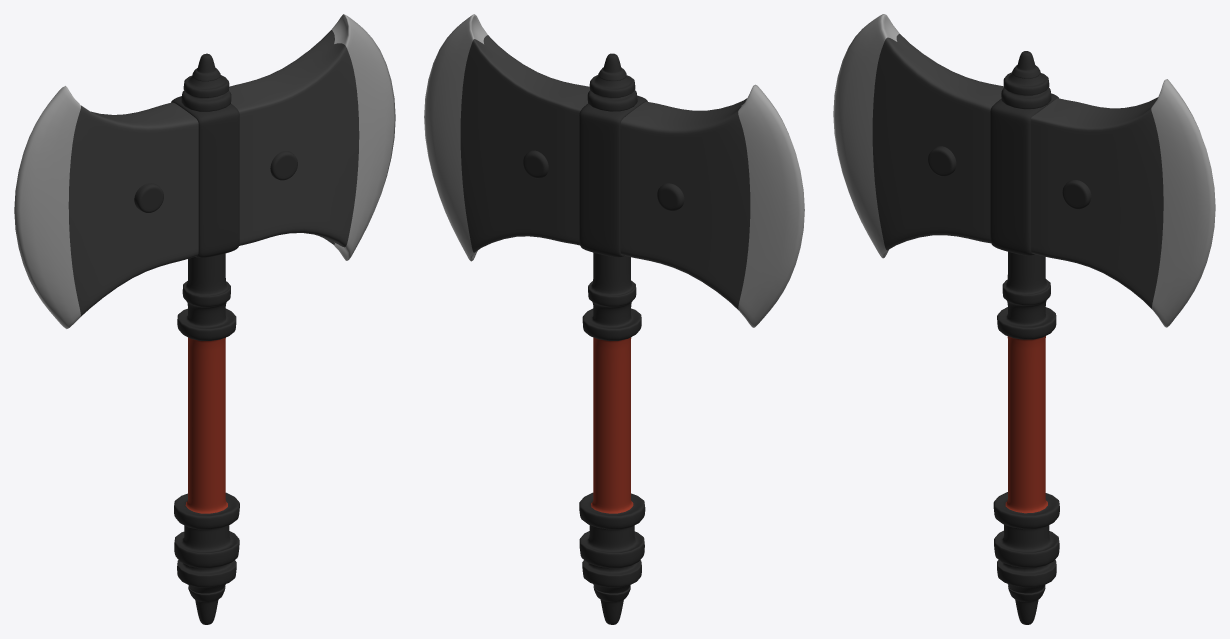
File: Chopper03.fbx
3 renders of one model, left to right at view 1: azimuth 30°, elevation 25°; view 2: azimuth 150°, elevation 25°; view 3: azimuth 330°, elevation 25°, orthographic.
Visible parts, largest first — view 1: Cube.136, Cube.137, Cube.135, Cube.138, Cube.139, Cylinder; view 2: Cube.136, Cube.137, Cube.135, Cube.138, Cube.139, Cylinder; view 3: Cube.137, Cube.136, Cube.135, Cube.138, Cube.139, Cylinder.
Boxes of the visible parts, left/top/right/bottom form: Cube.136: left=14, top=86, right=198, bottom=328; Cube.137: left=229, top=14, right=395, bottom=260; Cube.135: left=174, top=253, right=239, bottom=624; Cube.138: left=171, top=96, right=239, bottom=257; Cube.139: left=181, top=53, right=231, bottom=111; Cylinder: left=134, top=151, right=297, bottom=212; Cube.136: left=620, top=84, right=804, bottom=327; Cube.137: left=424, top=14, right=589, bottom=261; Cube.135: left=579, top=252, right=645, bottom=624; Cube.138: left=579, top=95, right=647, bottom=257; Cube.139: left=587, top=53, right=637, bottom=111; Cylinder: left=523, top=150, right=684, bottom=211; Cube.137: left=1031, top=79, right=1215, bottom=327; Cube.136: left=833, top=14, right=1003, bottom=258; Cube.135: left=993, top=252, right=1059, bottom=624; Cube.138: left=990, top=93, right=1058, bottom=255; Cube.139: left=1001, top=51, right=1051, bottom=109; Cylinder: left=928, top=146, right=1091, bottom=209.
Bounding box in the file's own units: 56.57 × 81.61 × 8.21.
